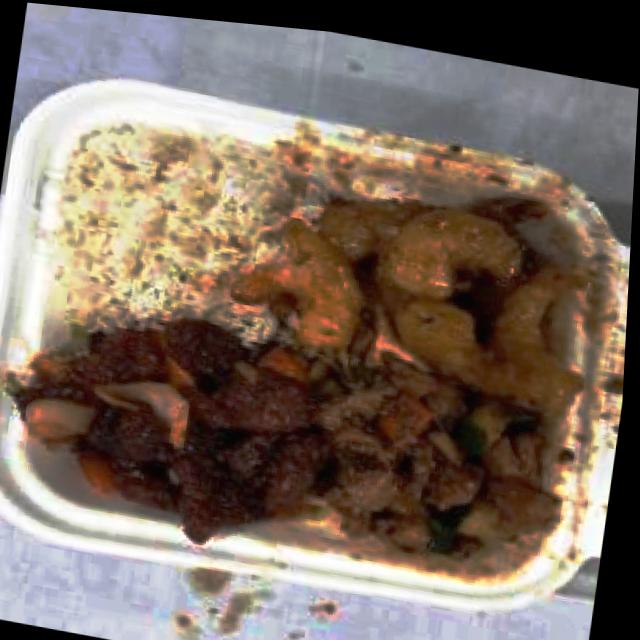Beijing Beef: (16, 296, 323, 541)
Kung Pao Chicken: (298, 361, 555, 579)
rice: (59, 132, 278, 317)
